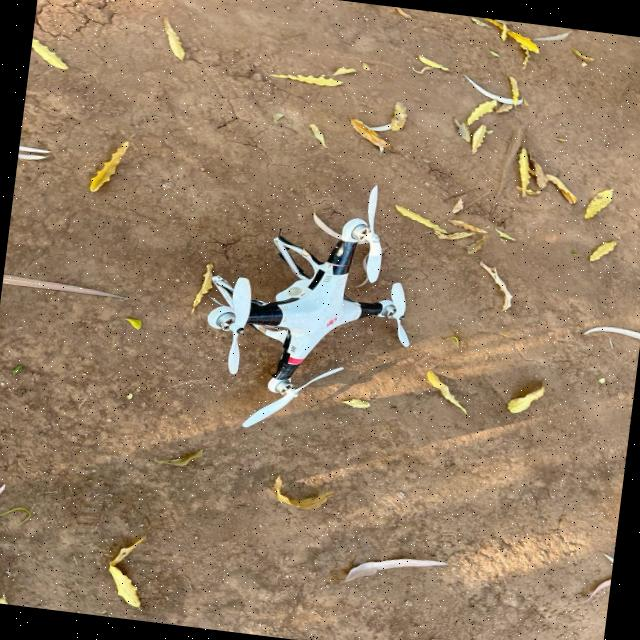drone: (111, 142, 508, 484)
